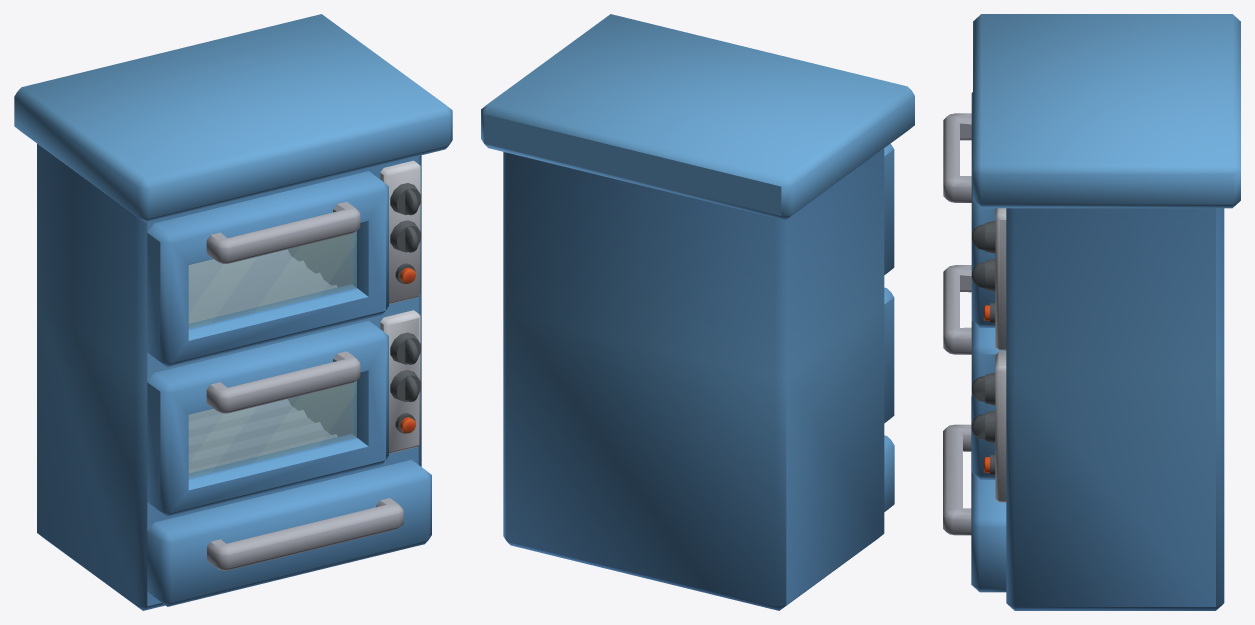
File: bread-oven.glb
3 renders of one model, left to right at view 1: azimuth 30°, elevation 25°; view 2: azimuth 150°, elevation 25°; view 3: azimuth 270°, elevation 25°, orthographic. The views are drawn at different scales.
Visible parts, largest first — view 1: bread_oven, bread_oven_door_B, bread_oven_door_A; view 2: bread_oven, bread_oven_door_A, bread_oven_door_B; view 3: bread_oven, bread_oven_door_A, bread_oven_door_B.
Boxes of the visible parts, <box> form: bread_oven: <box>14,14,452,610</box>; bread_oven_door_B: <box>147,171,388,367</box>; bread_oven_door_A: <box>147,320,388,516</box>; bread_oven: <box>481,14,914,610</box>; bread_oven_door_A: <box>884,287,894,423</box>; bread_oven_door_B: <box>884,144,894,274</box>; bread_oven: <box>943,14,1240,610</box>; bread_oven_door_A: <box>943,265,1005,479</box>; bread_oven_door_B: <box>943,92,995,327</box>.
Size of the model in its own units: 2.2 by 3 by 1.78.
2 materials, 2 textured.
